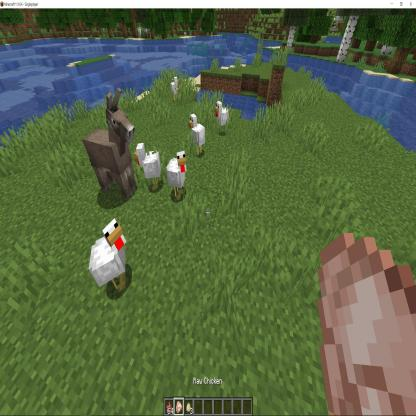minecraft-pigs: (166, 168, 206, 262)
